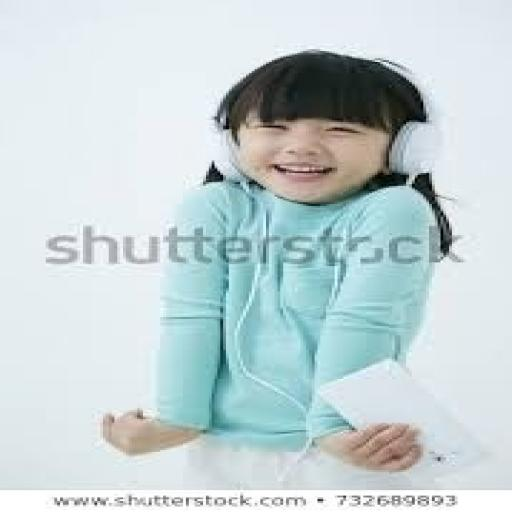listening_to_music: (94, 47, 464, 481)
